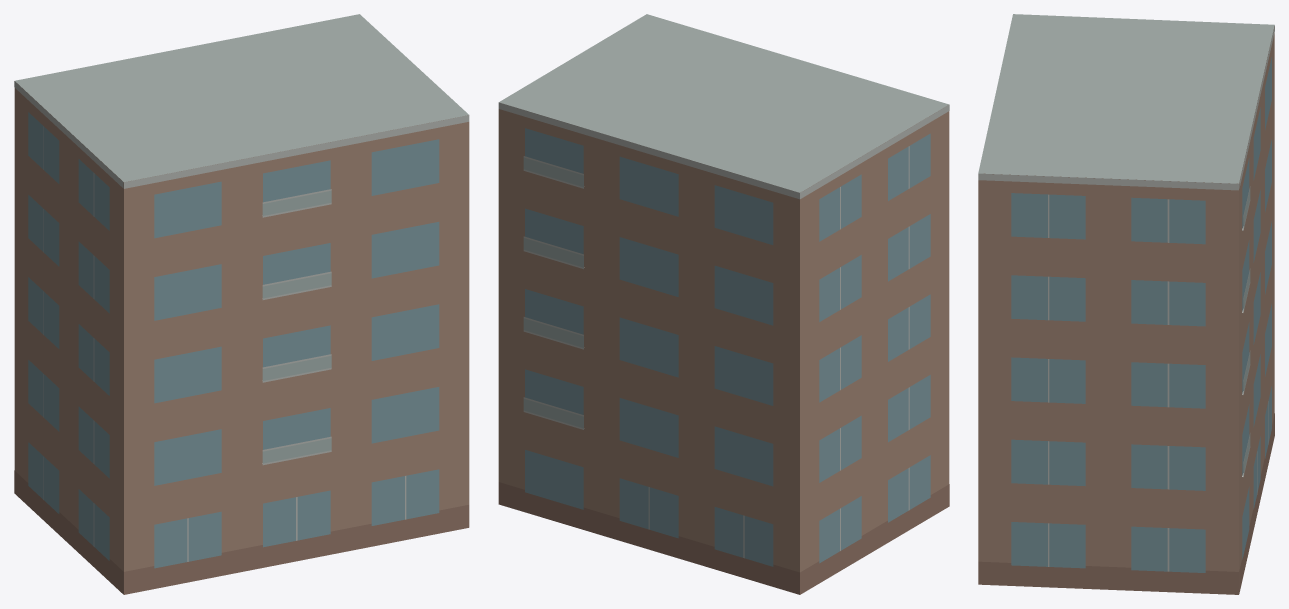
Rendered from survey-upis-32930433.glb.
3 renders of one model, left to right at view 1: azimuth 30°, elevation 25°; view 2: azimuth 150°, elevation 25°; view 3: azimuth 270°, elevation 25°, orthographic. The views are drawn at different scales.
Visible parts, largest first — view 1: survey-upis-32930433.tmp; view 2: survey-upis-32930433.tmp; view 3: survey-upis-32930433.tmp.
Boxes of the visible parts, box(x1,y1,x2,y2) form: survey-upis-32930433.tmp: box(14, 14, 469, 594); survey-upis-32930433.tmp: box(498, 14, 949, 594); survey-upis-32930433.tmp: box(978, 14, 1274, 594).
Bounding box in the file's own units: 13.34 × 15.05 × 9.85.
